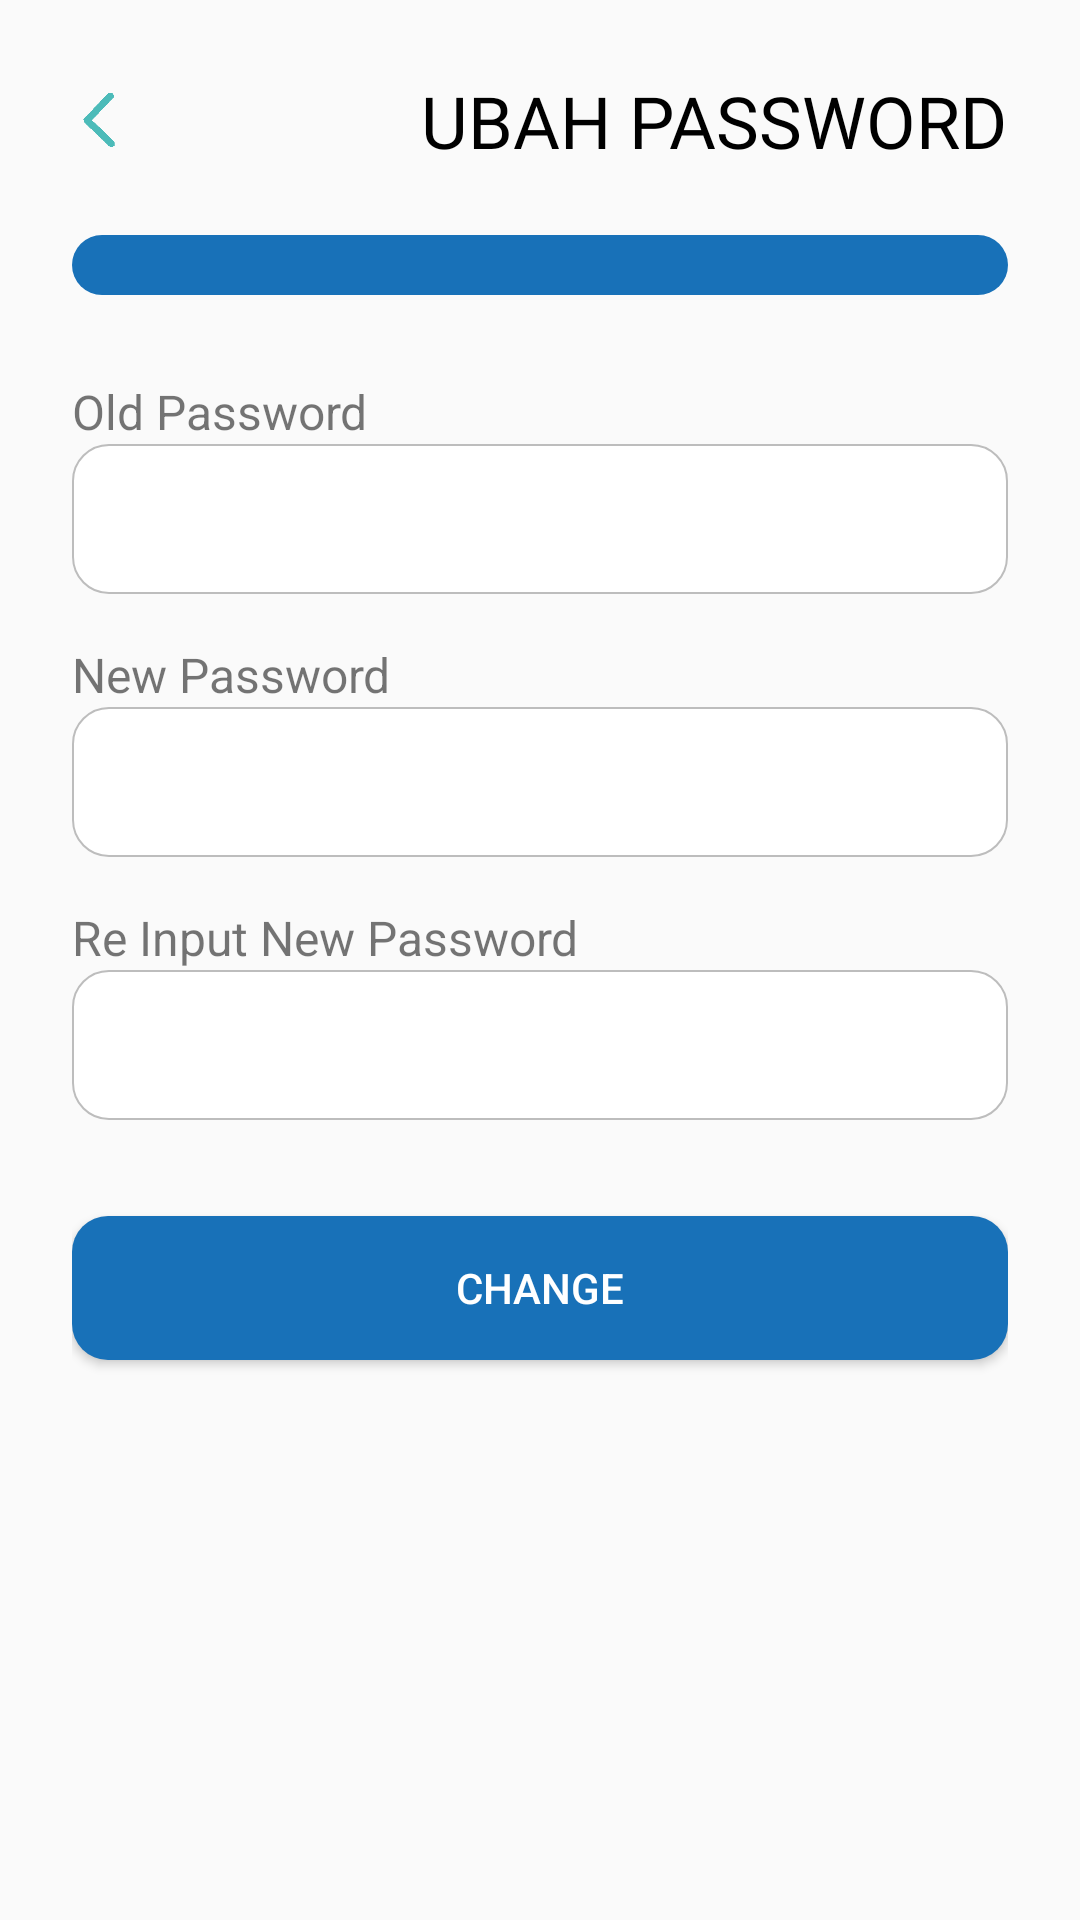

Icons on this 1080px×1920px Android screen, each with its box as [x1=x1, y1=y1, x2=x2, y2=y2]:
back: [x1=83, y1=93, x2=115, y2=147]
